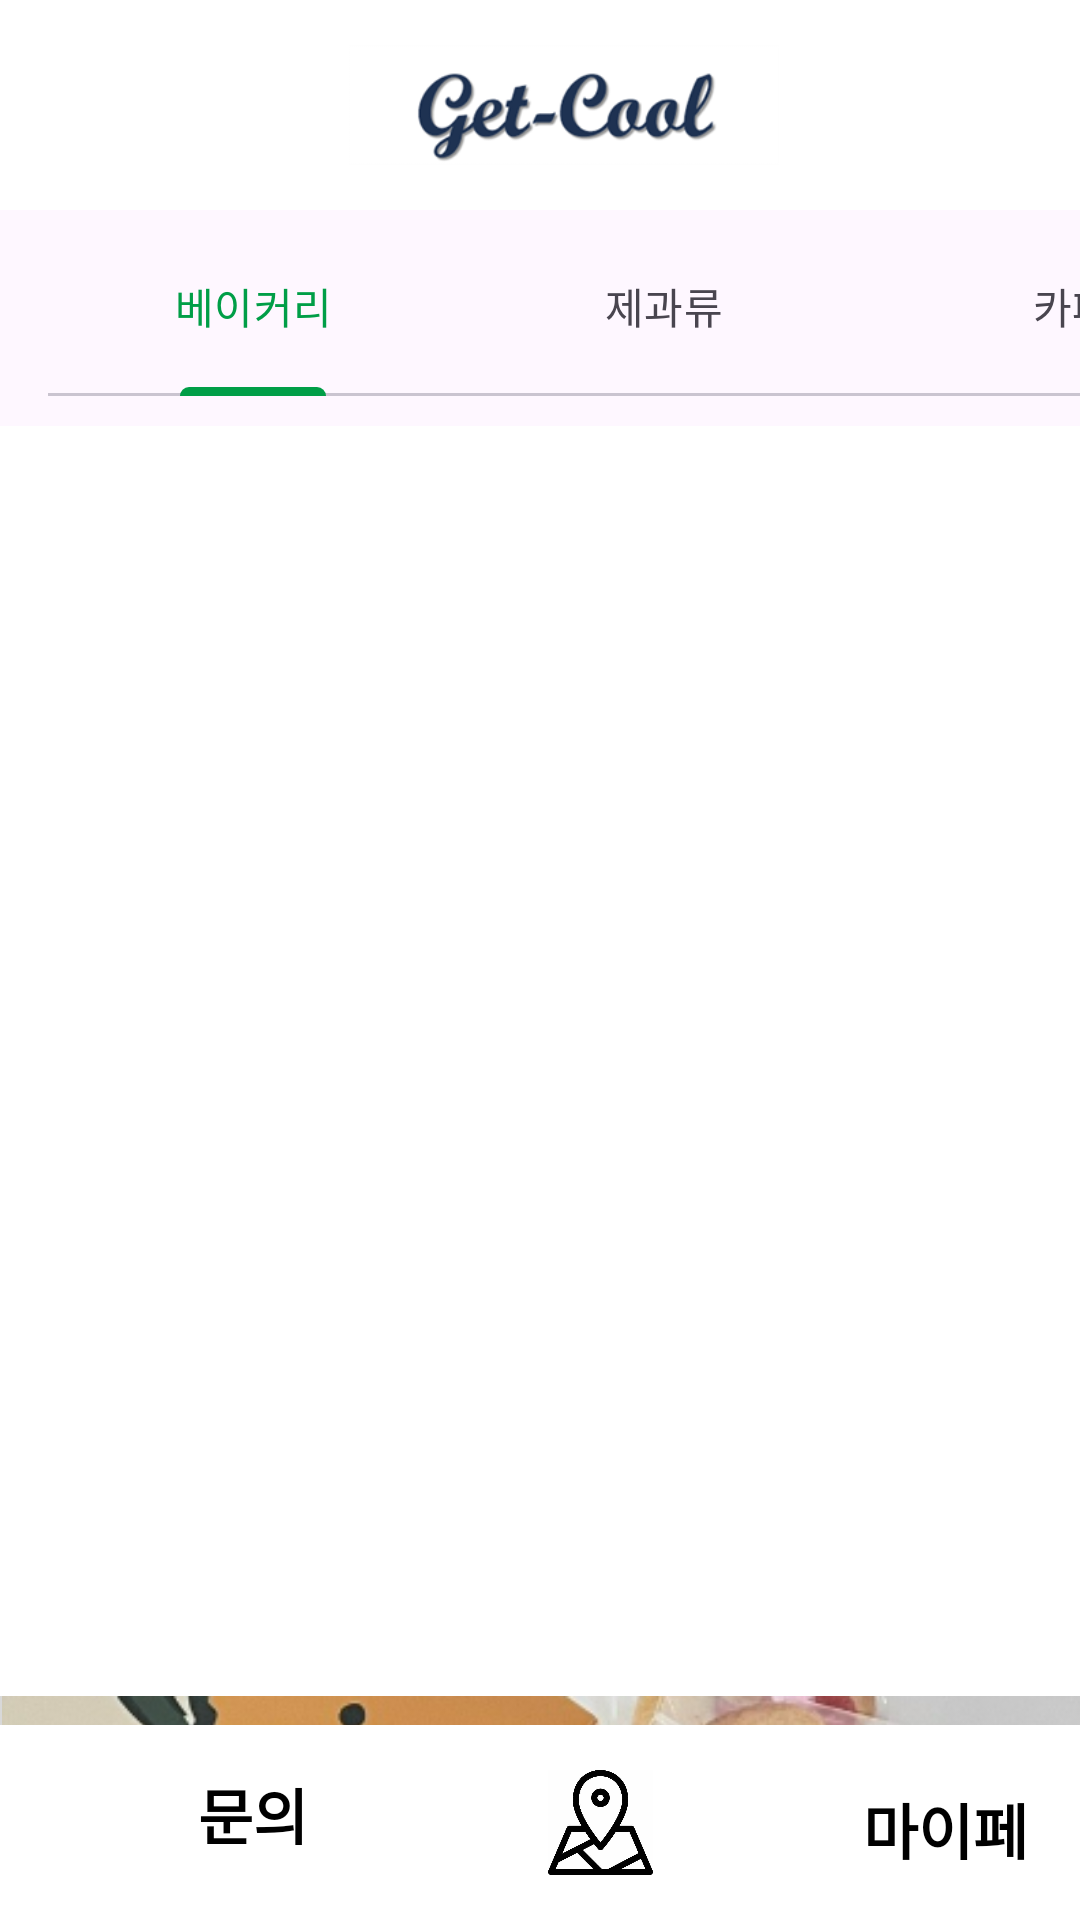

Named icons in this screenshot (1080px x 1920px) and their centers, [x,y]:
map: [600,1822]
